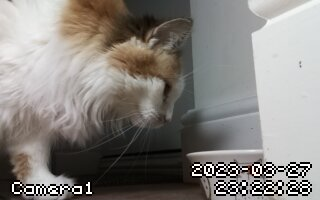clara: (6, 6, 188, 194)
